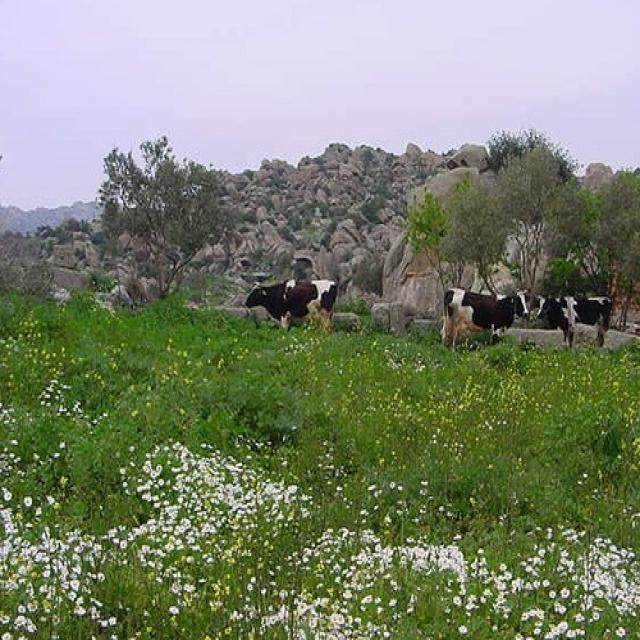cow: (437, 278, 538, 354), (244, 269, 340, 338), (532, 291, 617, 349)
